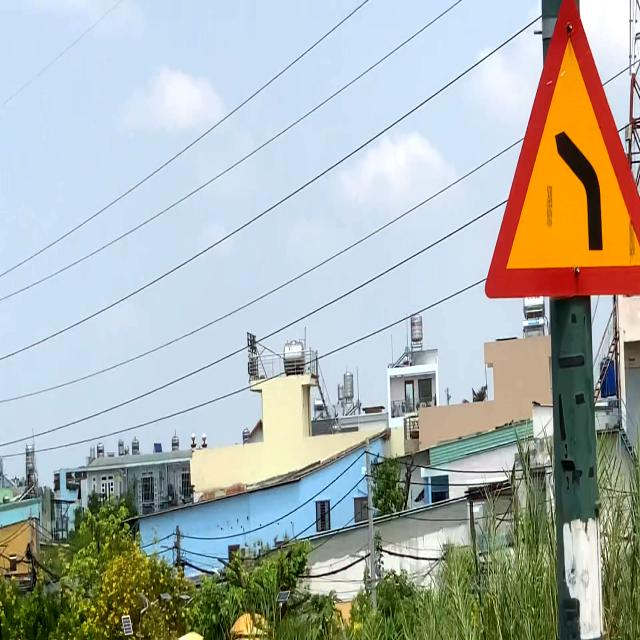W.201a: (482, 0, 640, 303)
